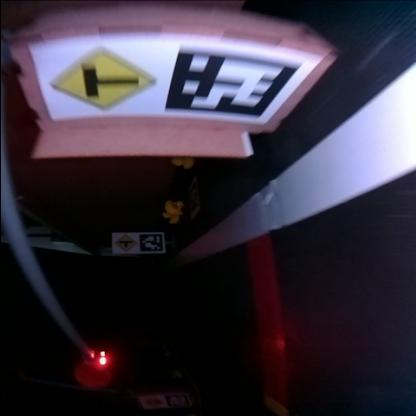Duckie: (170, 158, 192, 170), (165, 201, 179, 216), (162, 212, 176, 224)
Intersection sign: (51, 47, 154, 112), (113, 236, 134, 252)
QR code: (161, 48, 298, 116), (184, 178, 198, 219), (139, 234, 163, 252)
Signal sign: (142, 397, 160, 408)
Traffic light: (88, 352, 108, 366)
